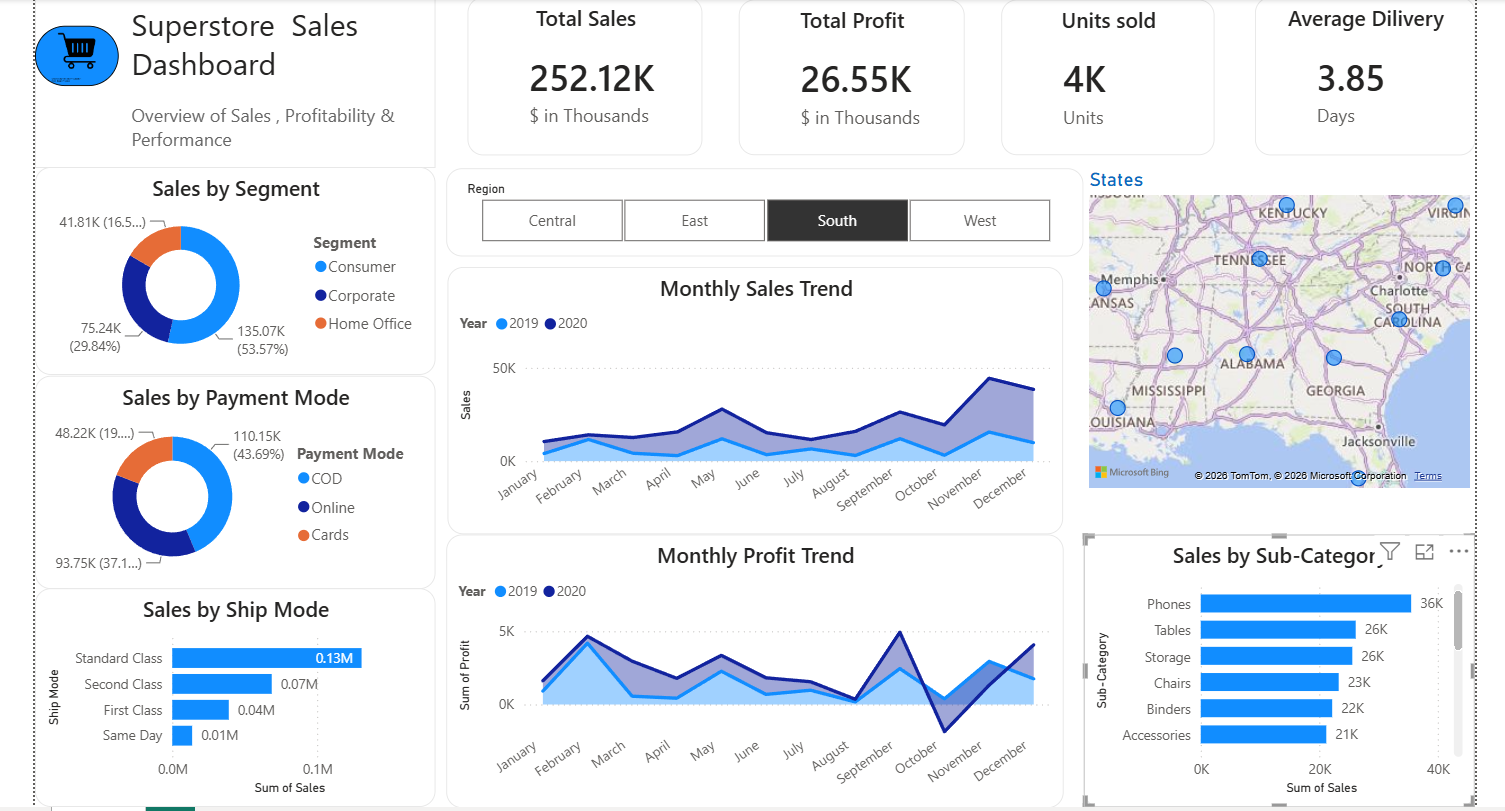

What the dashboard file says about the page in this screenshot:
{"tool":"powerbi","page":{"name":"Page 1","canvas":[1280,720],"ordinal":0},"visuals":[{"type":"cardVisual","title":"Total Sales","fields":{"Data":["super dash excel.Total Sales"]},"box":[384,0,209.1,140.6],"z":0},{"type":"cardVisual","title":"Total Profit","fields":{"Data":["super dash excel.Total Profit"]},"box":[626.1,2.4,200.5,138.2],"z":1000},{"type":"cardVisual","title":"Units sold ","fields":{"Data":["super dash excel.Units Sold"]},"box":[858.4,2.4,189.5,138.2],"z":2000},{"type":"cardVisual","title":"Average Dilivery ","fields":{"Data":["super dash excel.Avg Delivery Days"]},"box":[1084.7,0,195.7,140.6],"z":3000},{"type":"textbox","box":[0,0,355.8,151.6],"z":4000},{"type":"image","box":[0,25.7,74.6,53.8],"z":5000},{"type":"donutChart","title":"Sales by Segment","fields":{"Category":["super dash excel.Segment"],"Y":["Sum(super dash excel.Sales)"]},"box":[0,151.6,355.8,184.6],"z":6000},{"type":"donutChart","title":"Sales by Payment Mode","fields":{"Y":["Sum(super dash excel.Sales)"],"Category":["super dash excel.Payment Mode"]},"box":[0,336.3,355.8,189.5],"z":7000},{"type":"clusteredBarChart","title":"Sales by Ship Mode","fields":{"Category":["super dash excel.Ship Mode"],"Y":["Sum(super dash excel.Sales)"]},"box":[0,525.8,355.8,194.4],"z":8000},{"type":"slicer","fields":{"Values":["super dash excel.Region"]},"box":[365,152.3,566.7,78.2],"z":9000},{"type":"map","fields":{"Category":["super dash excel.State"]},"box":[931.7,152.3,348.5,289.5],"z":10000},{"type":"stackedAreaChart","title":"Monthly Sales Trend","fields":{"Y":["Sum(super dash excel.Sales)"],"Series":["super dash excel.Order Date.Variation.Date Hierarchy.Year"],"Category":["super dash excel.Order Date.Variation.Date Hierarchy.Month"]},"box":[366.4,240.1,547.5,237.4],"z":11000},{"type":"stackedAreaChart","title":"Monthly Profit Trend","fields":{"Series":["super dash excel.Order Date.Variation.Date Hierarchy.Year"],"Y":["Sum(super dash excel.Profit)"],"Category":["super dash excel.Order Date.Variation.Date Hierarchy.Month"]},"box":[365,477.5,548.9,242.9],"z":12000},{"type":"clusteredBarChart","title":"Sales by Sub-Category","fields":{"Category":["super dash excel.Sub-Category"],"Y":["Sum(super dash excel.Sales)"]},"box":[932.2,477.8,347.8,242.2],"z":13000}]}

Visuals, with their boxes on the page's 1280x720 design canvas (x1, y1, x2, y2). These are canvas units, not pixel positions in the 1505x811 screenshot, which may show the page scaled, cropped or inside an application window:
"Total Sales" cardVisual: box(384, 0, 593, 141)
"Total Profit" cardVisual: box(626, 2, 827, 141)
"Units sold " cardVisual: box(858, 2, 1048, 141)
"Average Dilivery " cardVisual: box(1085, 0, 1280, 141)
textbox: box(0, 0, 356, 152)
image: box(0, 26, 75, 80)
"Sales by Segment" donutChart: box(0, 152, 356, 336)
"Sales by Payment Mode" donutChart: box(0, 336, 356, 526)
"Sales by Ship Mode" clusteredBarChart: box(0, 526, 356, 720)
slicer - super dash excel.Region: box(365, 152, 932, 230)
map - super dash excel.State: box(932, 152, 1280, 442)
"Monthly Sales Trend" stackedAreaChart: box(366, 240, 914, 478)
"Monthly Profit Trend" stackedAreaChart: box(365, 478, 914, 720)
"Sales by Sub-Category" clusteredBarChart: box(932, 478, 1280, 720)
